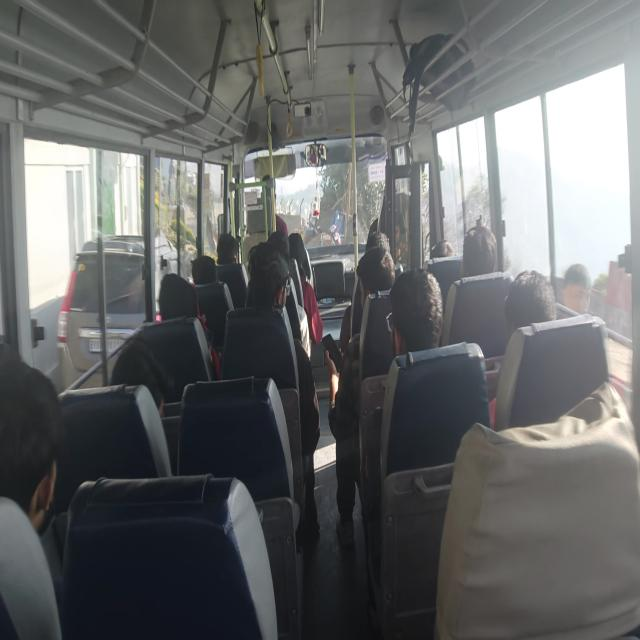person: (0, 355, 83, 603), (504, 260, 582, 374), (88, 337, 164, 415), (380, 280, 446, 369), (453, 218, 505, 296), (252, 260, 306, 322), (359, 258, 406, 318), (190, 244, 224, 298), (212, 220, 243, 272), (154, 268, 186, 315), (246, 244, 284, 282), (365, 226, 395, 266), (256, 230, 292, 262), (432, 238, 454, 268), (289, 235, 304, 268)
